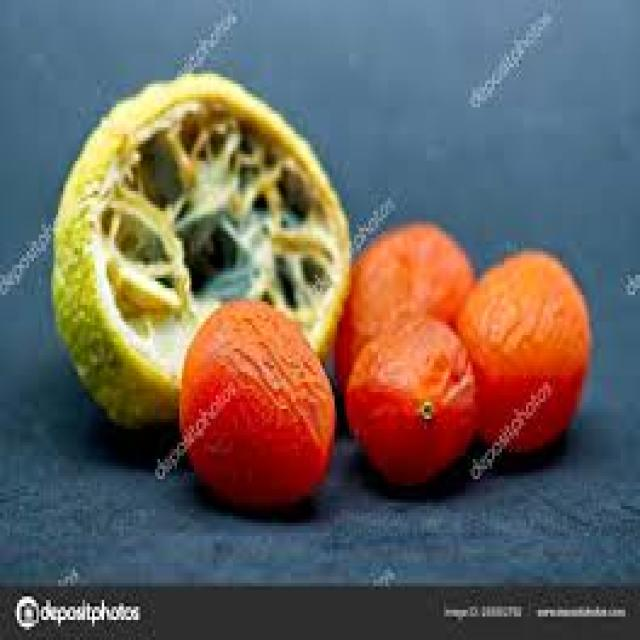food_waste: (53, 74, 589, 503)
